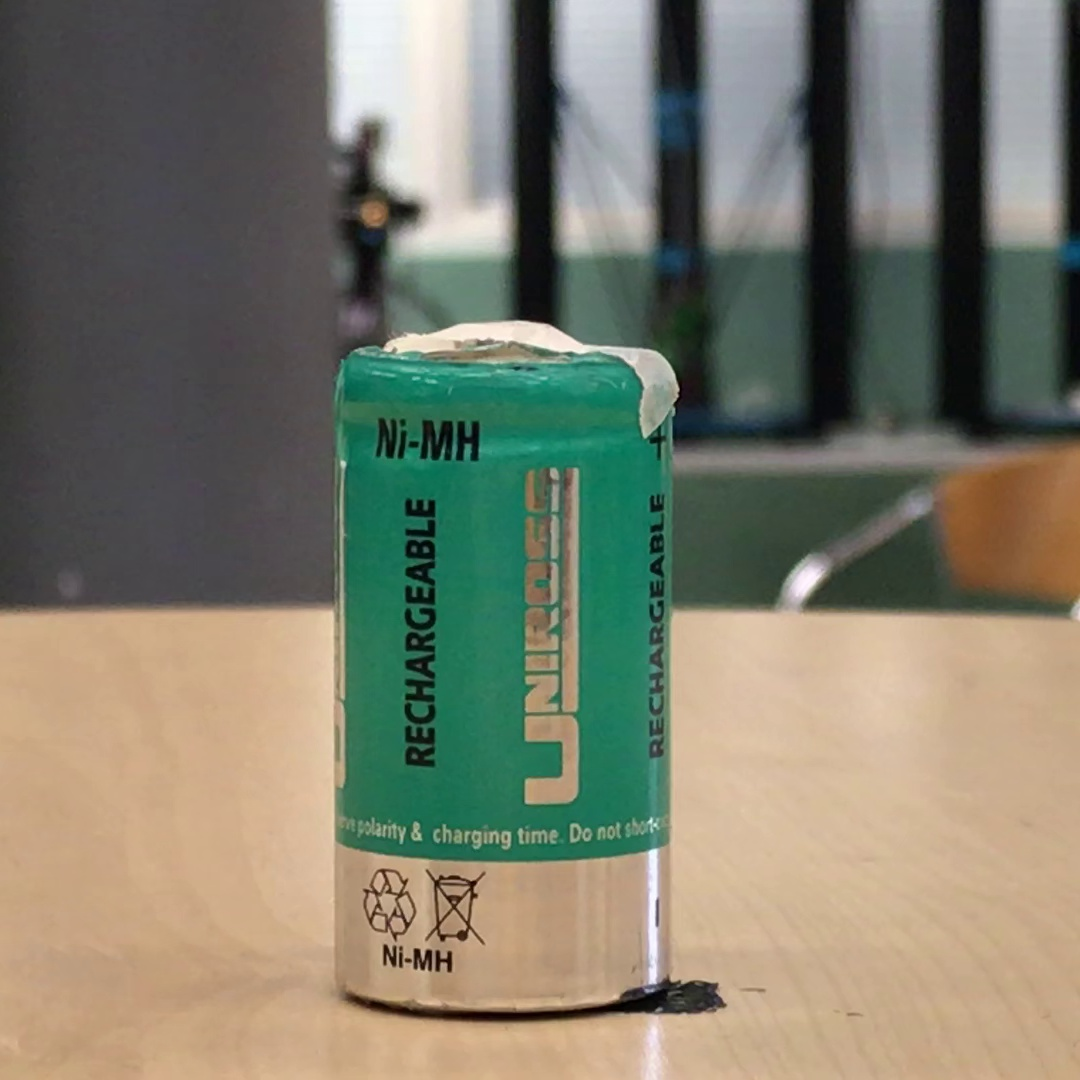keyword: (373, 939, 463, 977)
